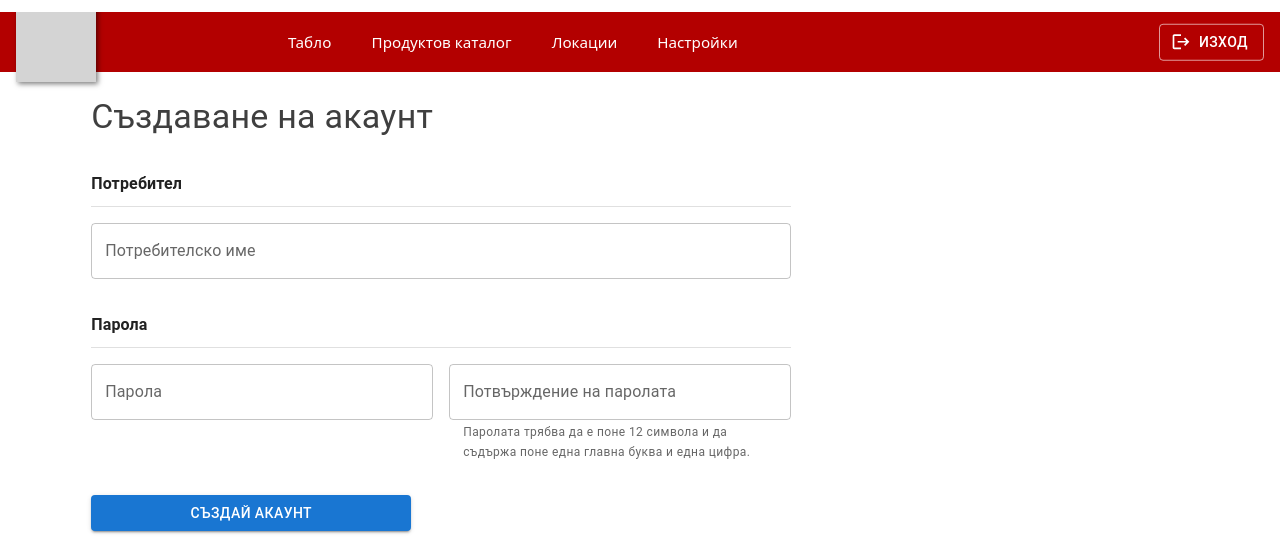
Scenario: Create account page › reports an error when the passwords do not match
The width and height of the screenshot is (1280, 551).
Type "ana" into the field labelled "Потребителско име" at (441, 251), box [91,223,791,279]
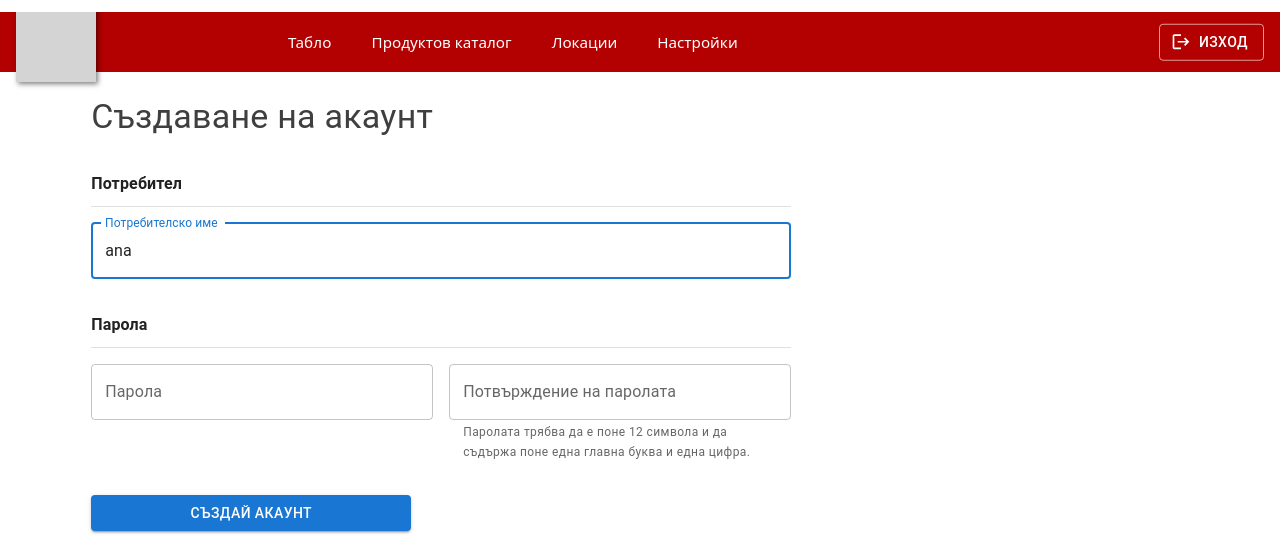
Type "Password1234" into the password field labelled "Парола" at (262, 392), box [91,364,433,420]
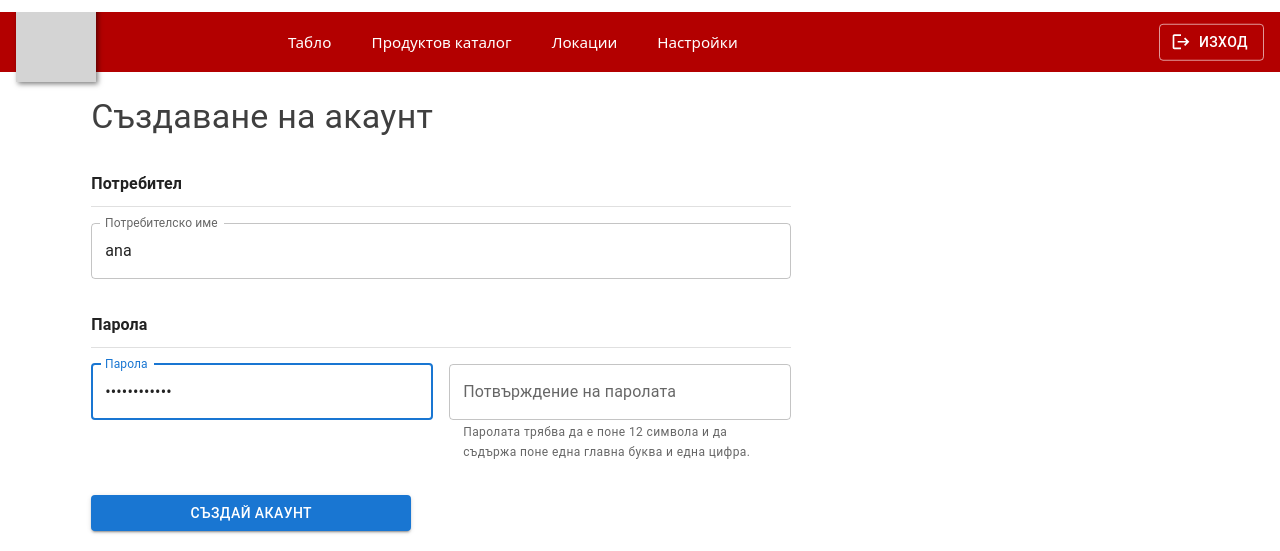
Type "Password5678" into the password field labelled "Потвърждение на паролата" at (620, 392), box [449,364,791,420]
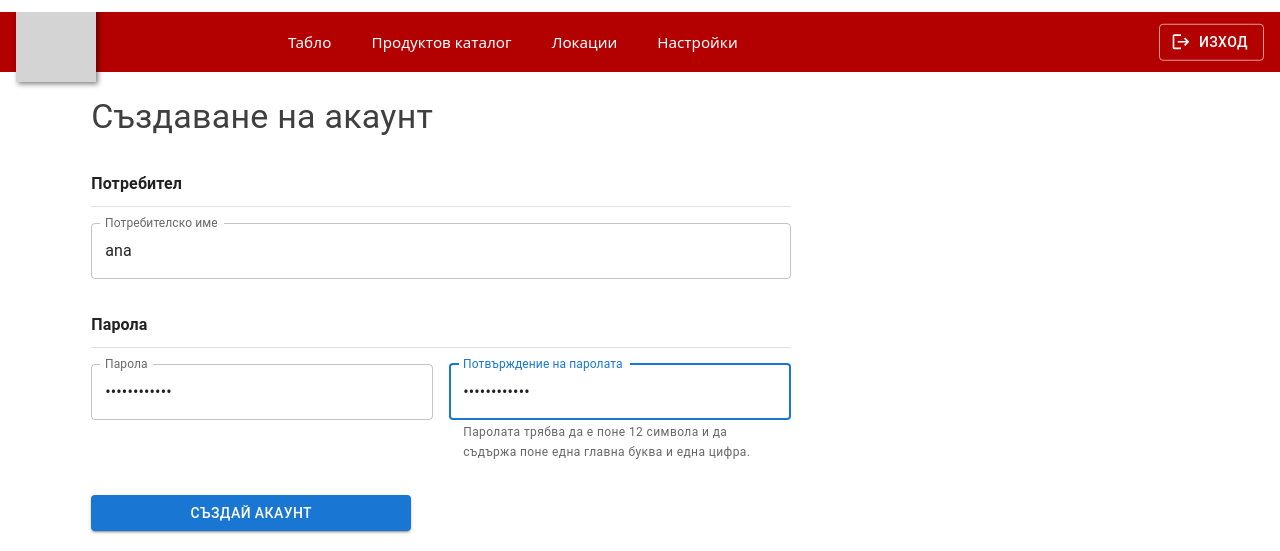
Click the button "Създай акаунт" at (251, 513), box [91,495,411,531]
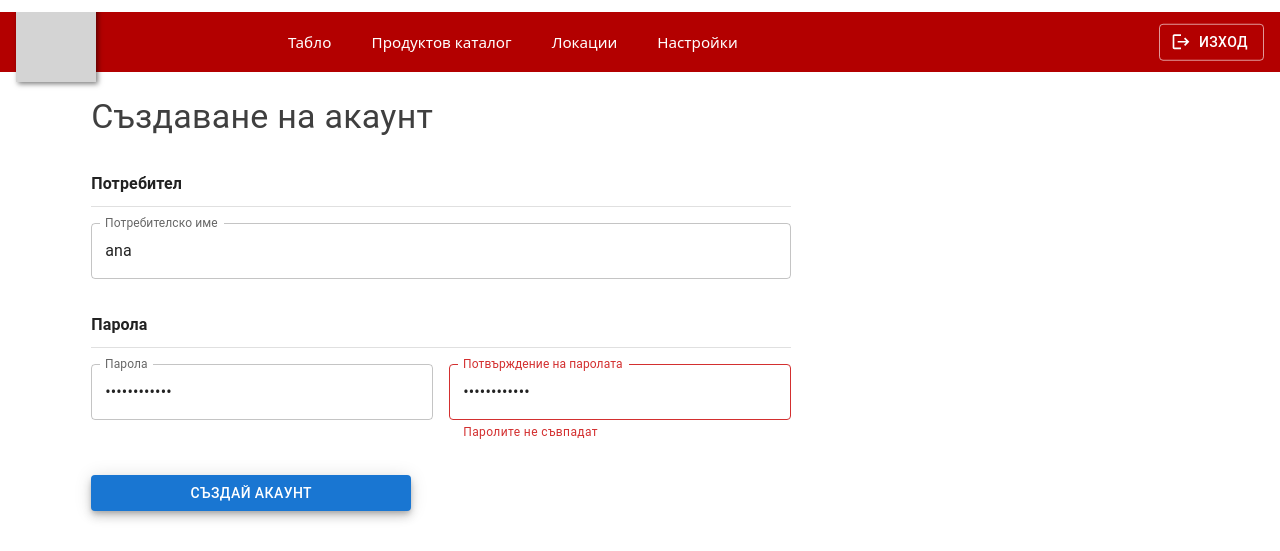
Result: the text "Паролите не съвпадат" is shown at [463,425,598,439]
